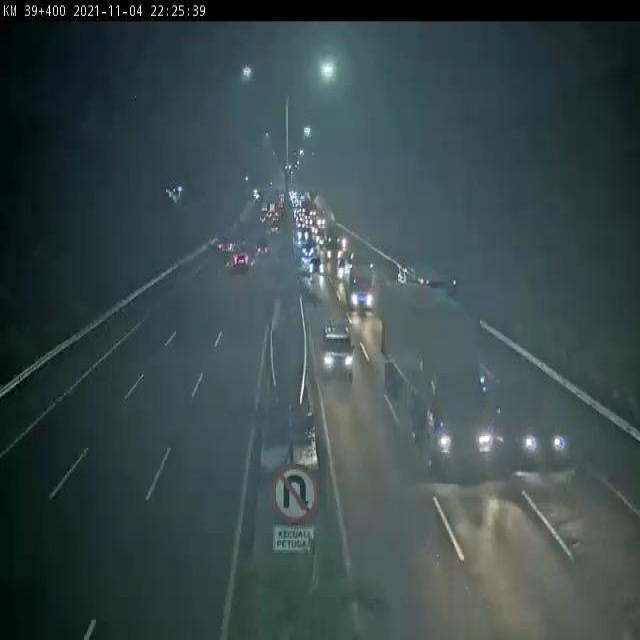car: (494, 375, 574, 469), (319, 316, 354, 375), (233, 248, 253, 275), (306, 255, 324, 273)
truck-m-: (343, 256, 375, 309)
truck-xl-: (387, 289, 496, 476)
